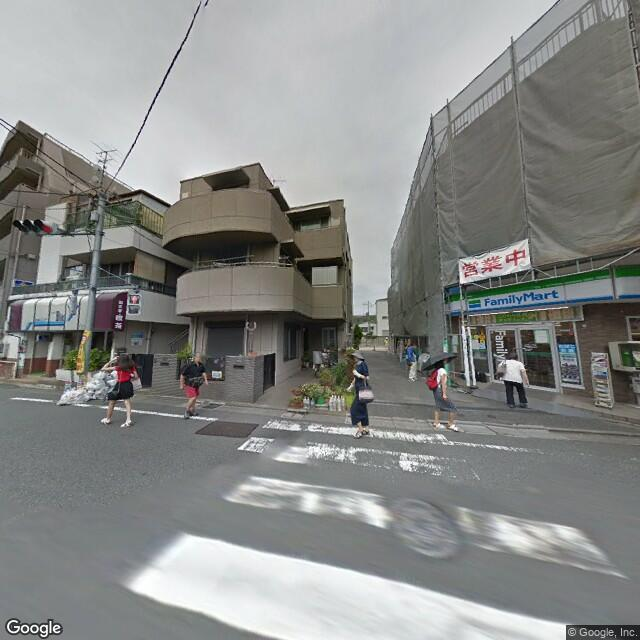family_mart: (439, 260, 639, 322), (464, 285, 562, 312), (490, 327, 505, 370)
